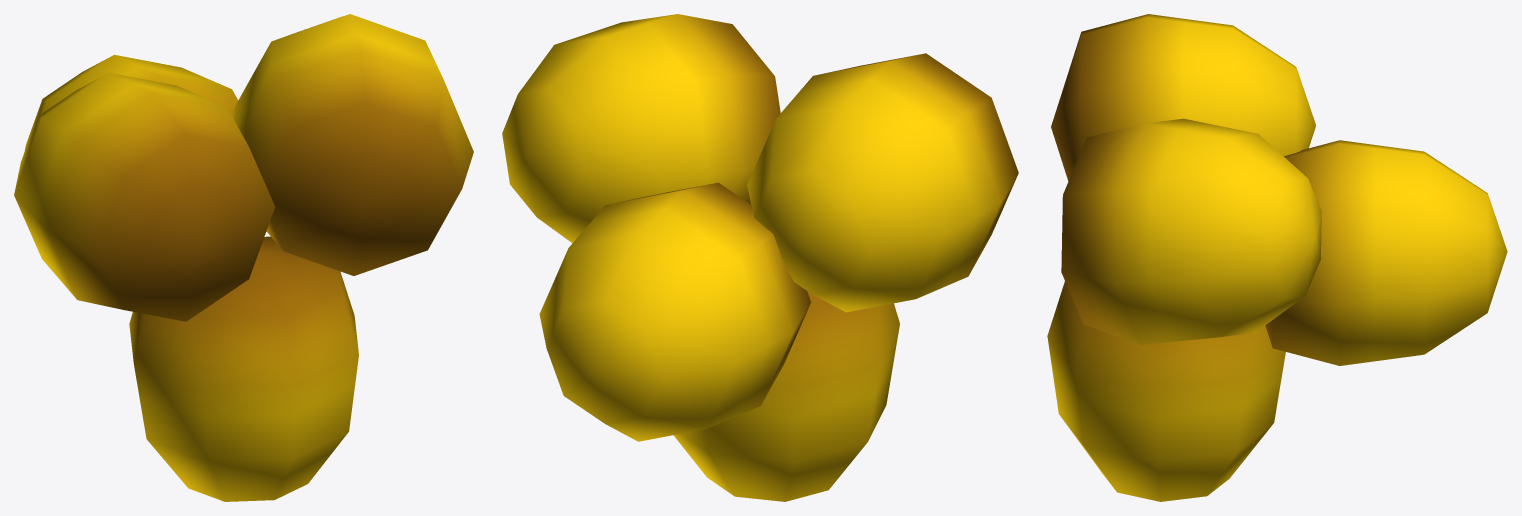
The model's file is loading_eggs.fbx.
3 views of the same model, side by side, from view 1: azimuth 30°, elevation 25°; view 2: azimuth 150°, elevation 25°; view 3: azimuth 270°, elevation 25° (orthographic). The views are drawn at different scales.
Parts seen in each view (by area): view 1: Map.002; view 2: Map.002; view 3: Map.002.
Part boxes in pixels (x1,y1,x2,y2): Map.002: (14, 14, 473, 501); Map.002: (502, 14, 1018, 501); Map.002: (1047, 14, 1507, 501).
Size of the model in its own units: 966 by 928 by 908.
1 material, 1 textured.
